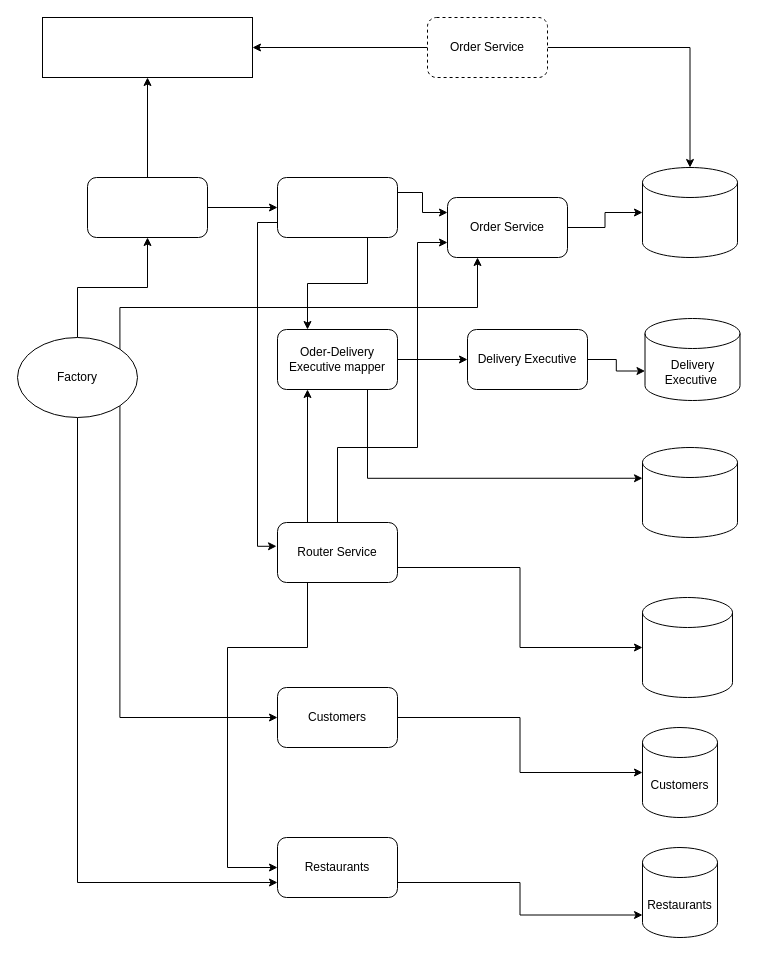
This 758x955 diagram has some shape labels left out. Here are the shapes that lost their labels. From the top down, the box of each, then its label:
(42, 16, 252, 78): Order queue
(86, 176, 208, 238): Handler
(276, 176, 398, 238): Order Processor
(642, 166, 738, 258): Order
(642, 446, 738, 538): Order-Delivery Executive Mapping
(642, 596, 732, 698): Order delivery route
